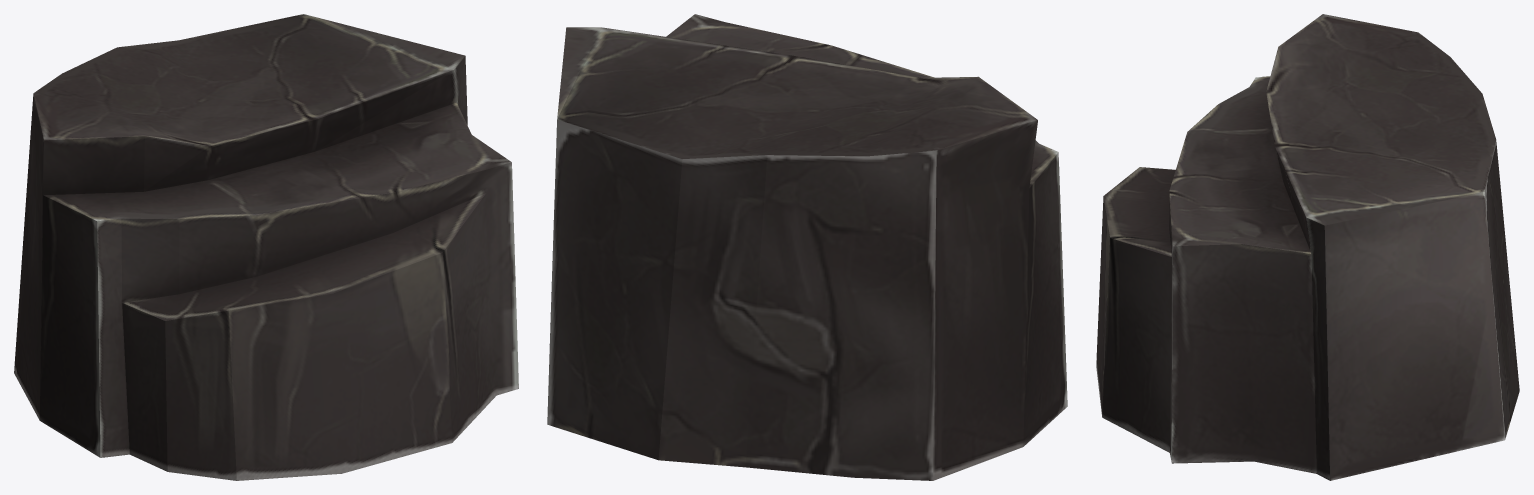
The model's file is Rock02.FBX.
3 renders of one model, left to right at view 1: azimuth 30°, elevation 25°; view 2: azimuth 150°, elevation 25°; view 3: azimuth 270°, elevation 25°, orthographic. The views are drawn at different scales.
Parts seen in each view (by area): view 1: rock02; view 2: rock02; view 3: rock02.
Boxes of the visible parts, <box> form: rock02: <box>14,14,518,480</box>; rock02: <box>547,14,1067,480</box>; rock02: <box>1096,14,1519,480</box>.
Bounding box in the file's own units: 181 × 117 × 163.
